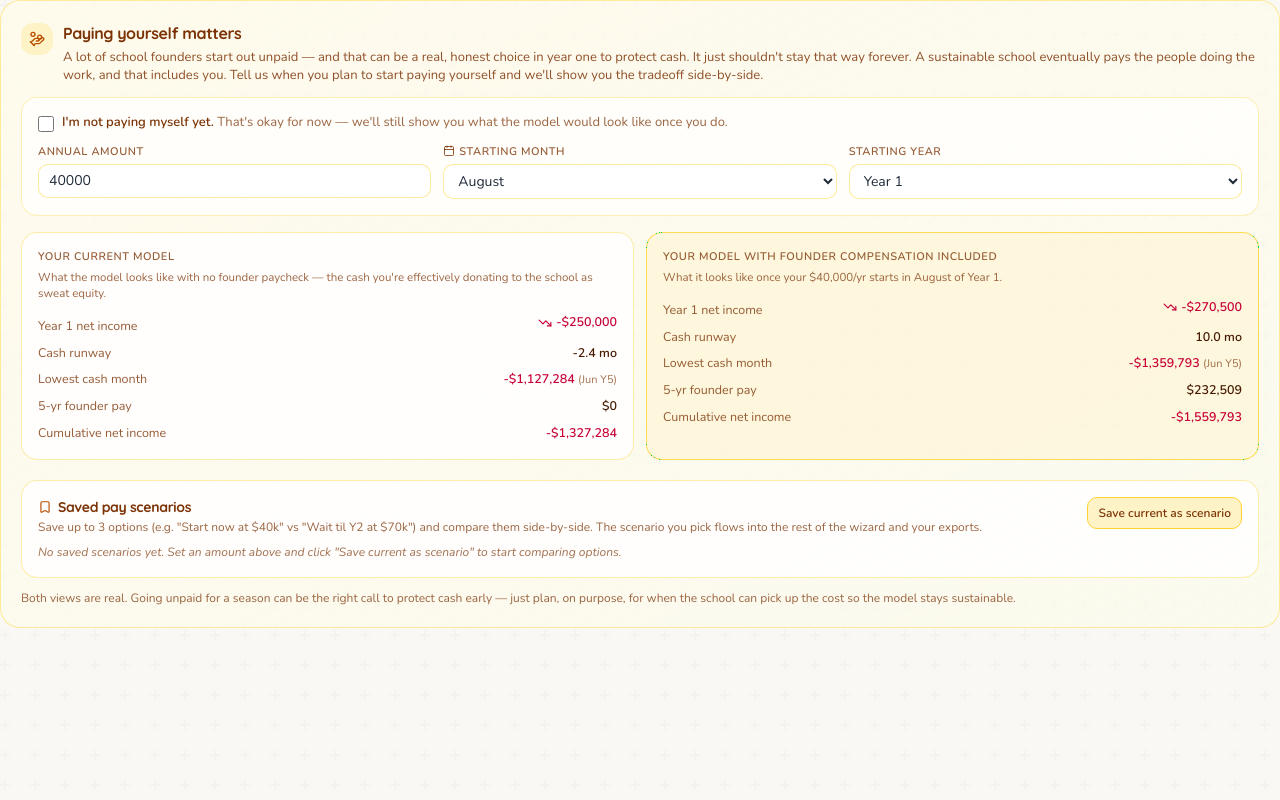
FounderCompTeachingPanel saved scenarios (Task #693) › enables 'Save current as scenario' once an amount is set, and adds a scenario card on click
Click the button with test id "founder-comp-save-scenario".
click(1165, 512)  # box [1088,496,1242,528]
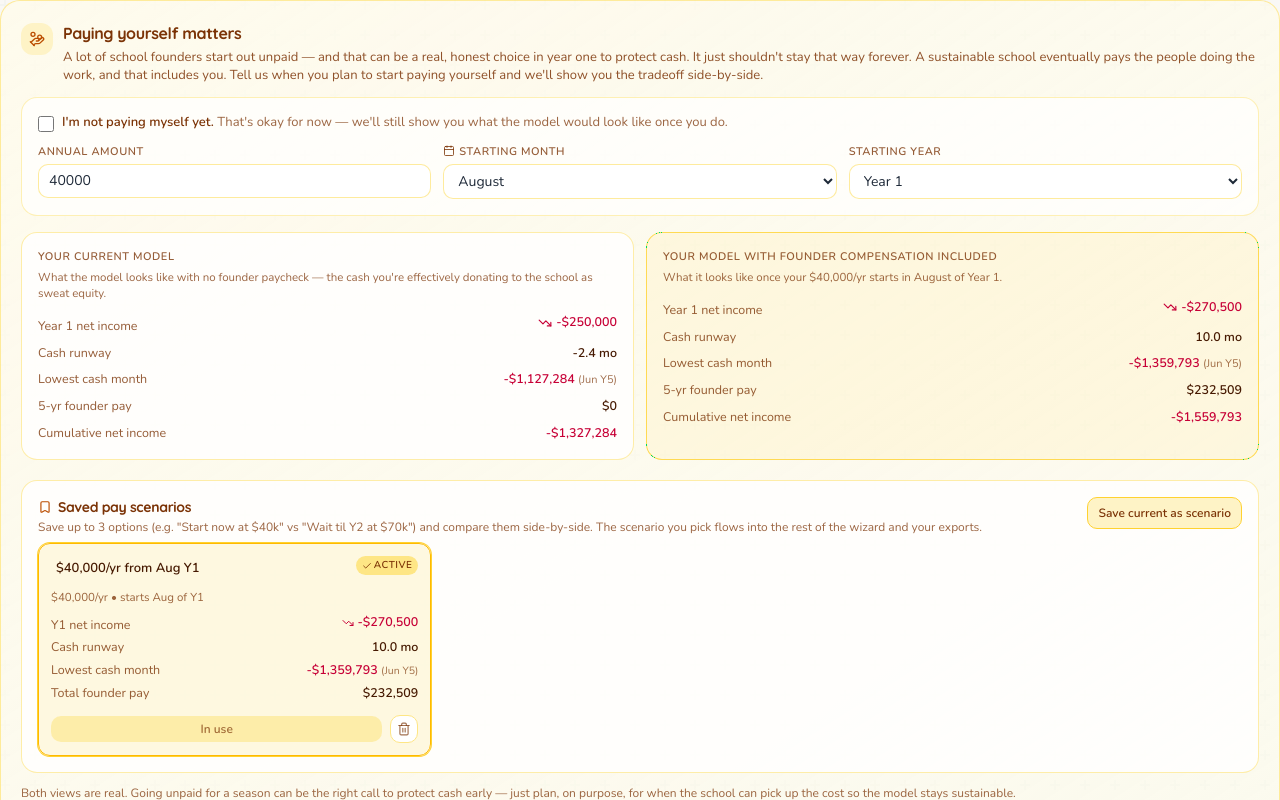
expect the element with test id "founder-comp-scenario-list" is shown: met, box [38,543,431,756]
expect the element with test id "-active-badge" is shown: met, box [356,556,418,575]
